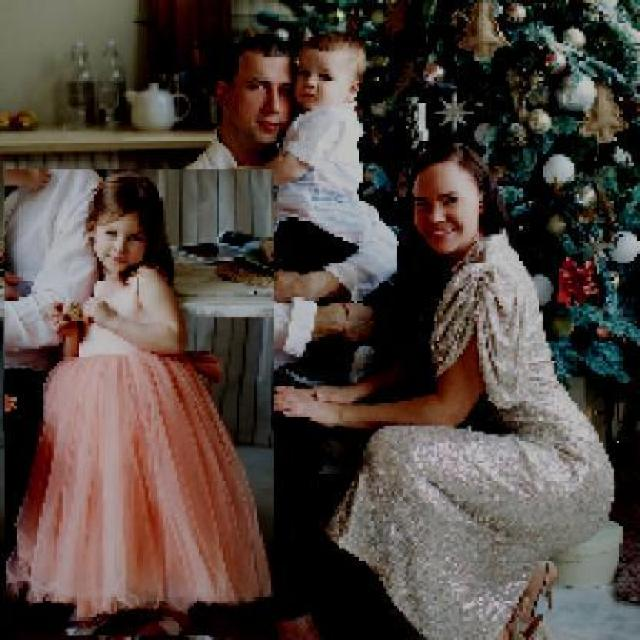child: (3, 169, 274, 637), (225, 33, 381, 384)
